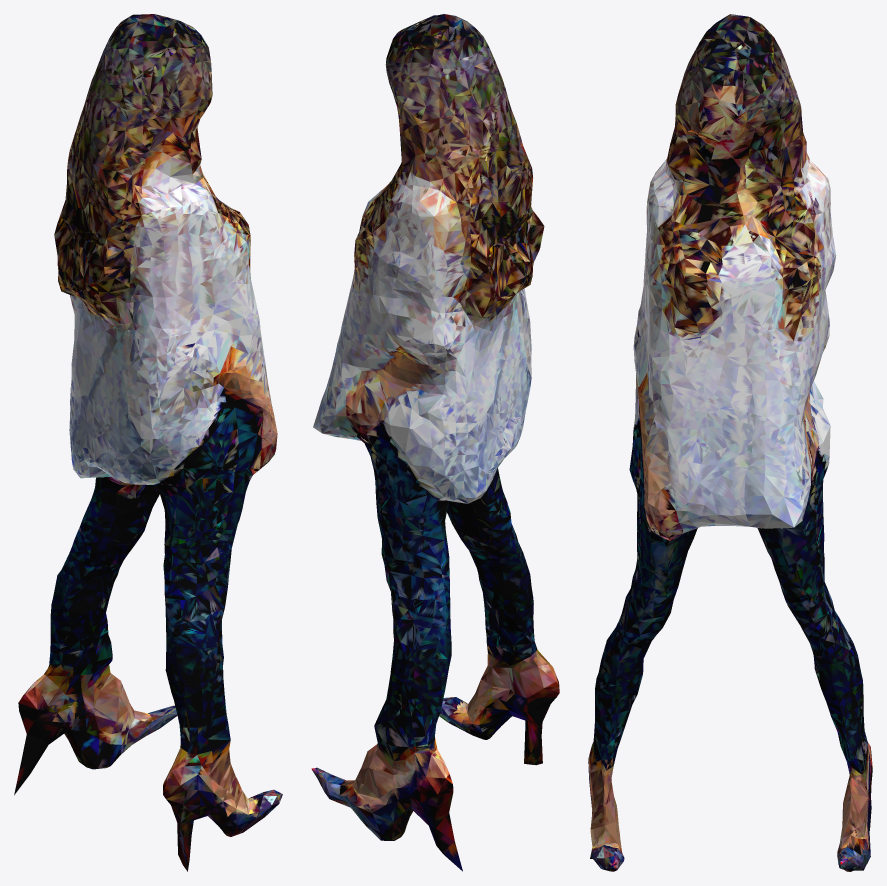
Rendered from girl_A-canny.glb.
3 views of the same model, side by side, from view 1: azimuth 30°, elevation 25°; view 2: azimuth 150°, elevation 25°; view 3: azimuth 270°, elevation 25° (orthographic). The views are drawn at different scales.
Visible parts, largest first — view 1: extracted_mesh; view 2: extracted_mesh; view 3: extracted_mesh.
Boxes of the visible parts, x1,y1,x2,y2 form: extracted_mesh: (14, 14, 282, 871); extracted_mesh: (311, 14, 559, 871); extracted_mesh: (588, 14, 872, 871).
Size of the model in its own units: 0.2711 by 1.12 by 0.3361.
Materials: 1 (1 with a texture image).
